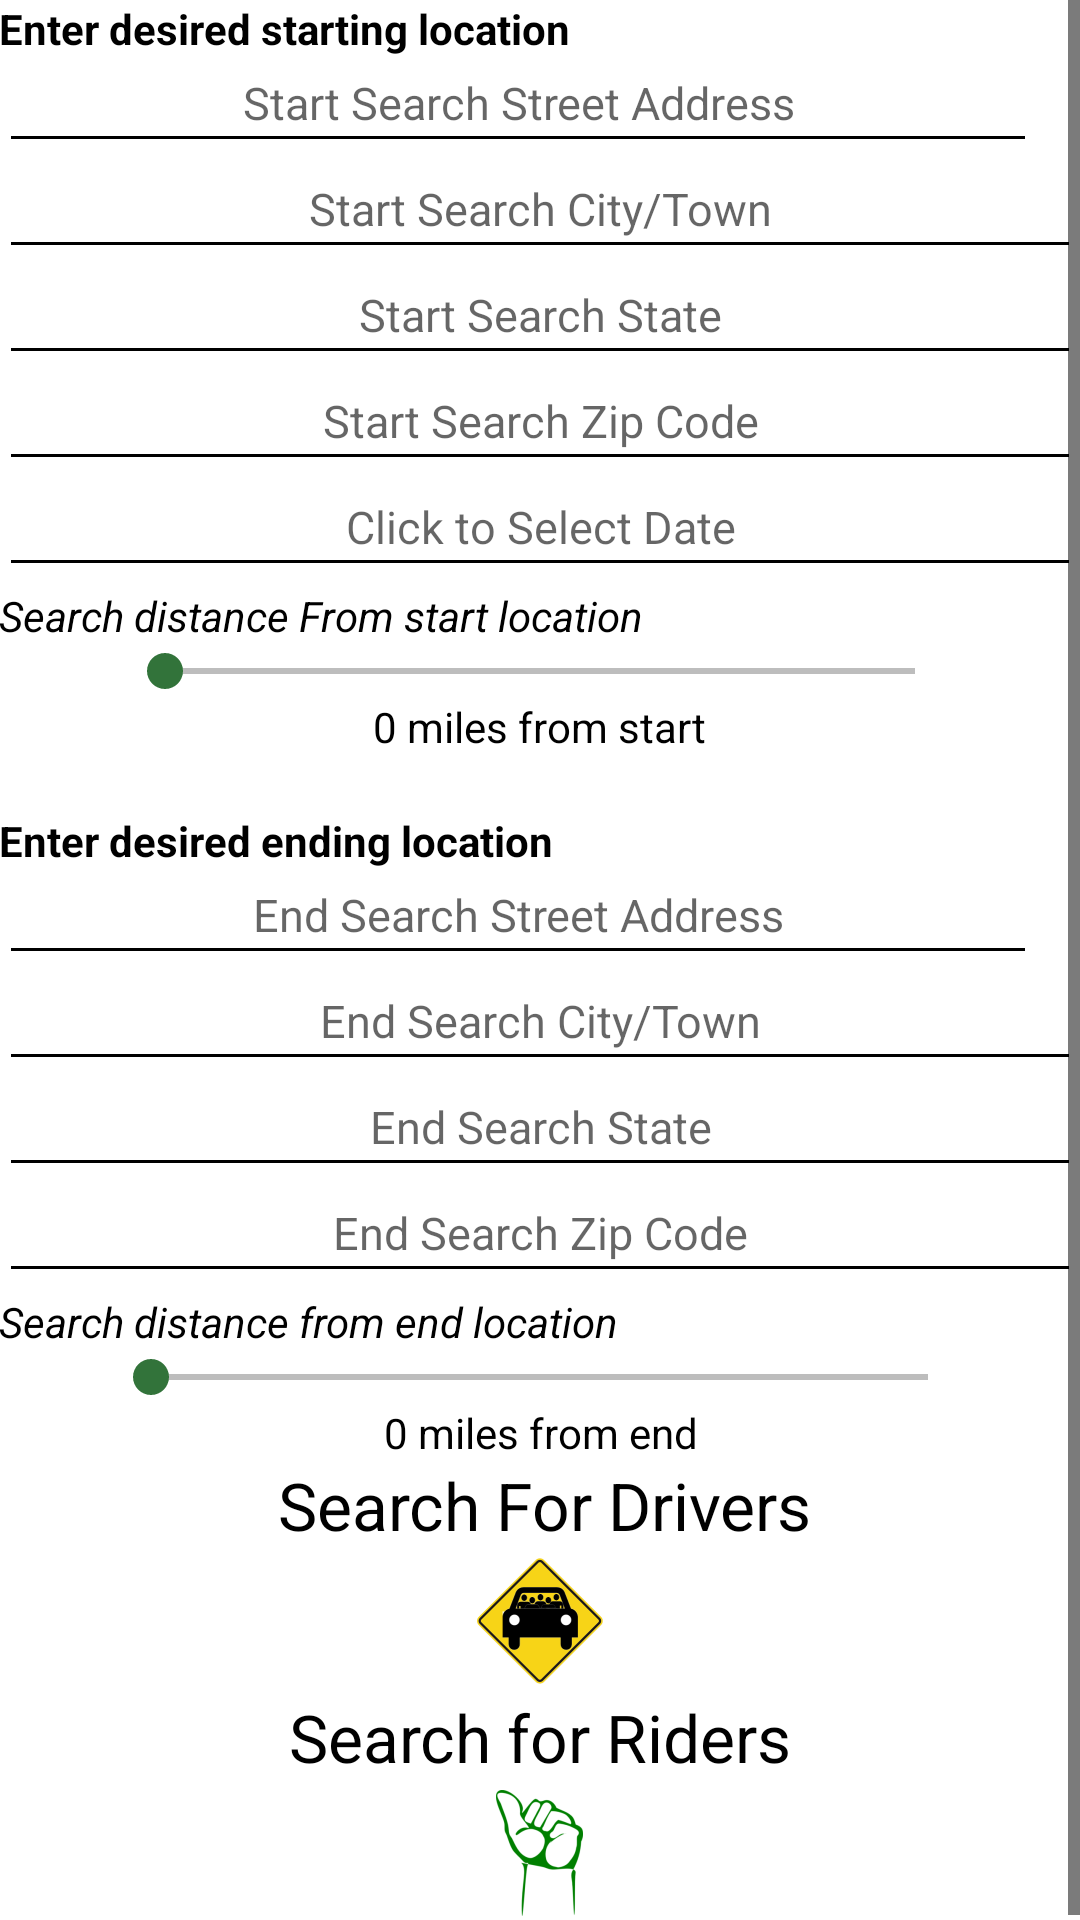

Where to tap for icons on this 1080*1920 app screen, as point (x, y):
thumb: point (539, 1853)
